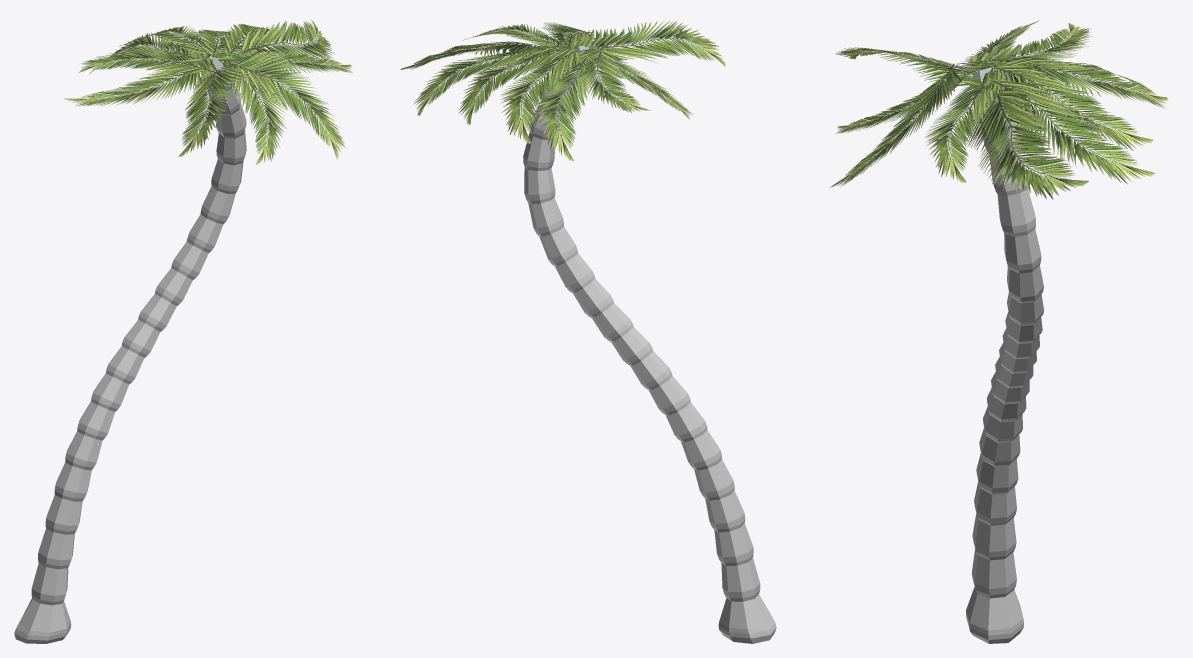
The model's file is coconut tree 2.fbx.
3 views of the same model, side by side, from view 1: azimuth 30°, elevation 25°; view 2: azimuth 150°, elevation 25°; view 3: azimuth 270°, elevation 25° (orthographic). The views are drawn at different scales.
Visible parts, largest first — view 1: stem, coconut-leaf-removebg-preview.001, Plane.006, coconut-leaf-removebg-preview.002, coconut-leaf-removebg-preview.005, Plane.005, coconut-leaf-removebg-preview, Plane.002, Plane.003, Plane.004, Plane.001, Plane.007; view 2: stem, Plane.006, Plane.003, Plane.004, coconut-leaf-removebg-preview, Plane.001, Plane.007, coconut-leaf-removebg-preview.002, Plane.005, Plane.002, coconut-leaf-removebg-preview.001; view 3: stem, Plane.005, Plane.001, Plane.007, Plane.002, Plane.004, coconut-leaf-removebg-preview.001, coconut-leaf-removebg-preview, Plane.006, coconut-leaf-removebg-preview.005, coconut-leaf-removebg-preview.002.
Boxes of the visible parts, x1,y1,x2,y2 form: stem: (14,57,246,643); coconut-leaf-removebg-preview.001: (229,48,345,160); Plane.006: (178,65,254,156); coconut-leaf-removebg-preview.002: (63,54,217,106); coconut-leaf-removebg-preview.005: (227,60,287,165); Plane.005: (240,20,334,84); coconut-leaf-removebg-preview: (78,45,215,75); Plane.002: (220,51,352,78); Plane.003: (89,32,209,73); Plane.004: (119,26,219,58); Plane.001: (219,23,285,64); Plane.007: (198,29,245,65); stem: (523,45,776,643); Plane.006: (558,20,725,66); Plane.003: (534,57,596,160); Plane.004: (500,51,579,143); coconut-leaf-removebg-preview: (566,43,650,112); Plane.001: (413,45,569,115); Plane.007: (458,46,589,124); coconut-leaf-removebg-preview.002: (576,49,692,119); Plane.005: (400,41,549,69); Plane.002: (462,24,574,53); coconut-leaf-removebg-preview.001: (542,22,594,45); stem: (966,67,1043,643); Plane.005: (966,89,1088,199); Plane.001: (969,79,1154,184); Plane.007: (980,65,1152,150); Plane.002: (925,82,997,182); Plane.004: (995,57,1168,108); coconut-leaf-removebg-preview.001: (829,63,961,187); coconut-leaf-removebg-preview: (957,22,1093,66); Plane.006: (835,47,982,86); coconut-leaf-removebg-preview.005: (835,71,973,133); coconut-leaf-removebg-preview.002: (958,20,1039,72).
Size of the model in its own units: 516 by 779 by 391.
